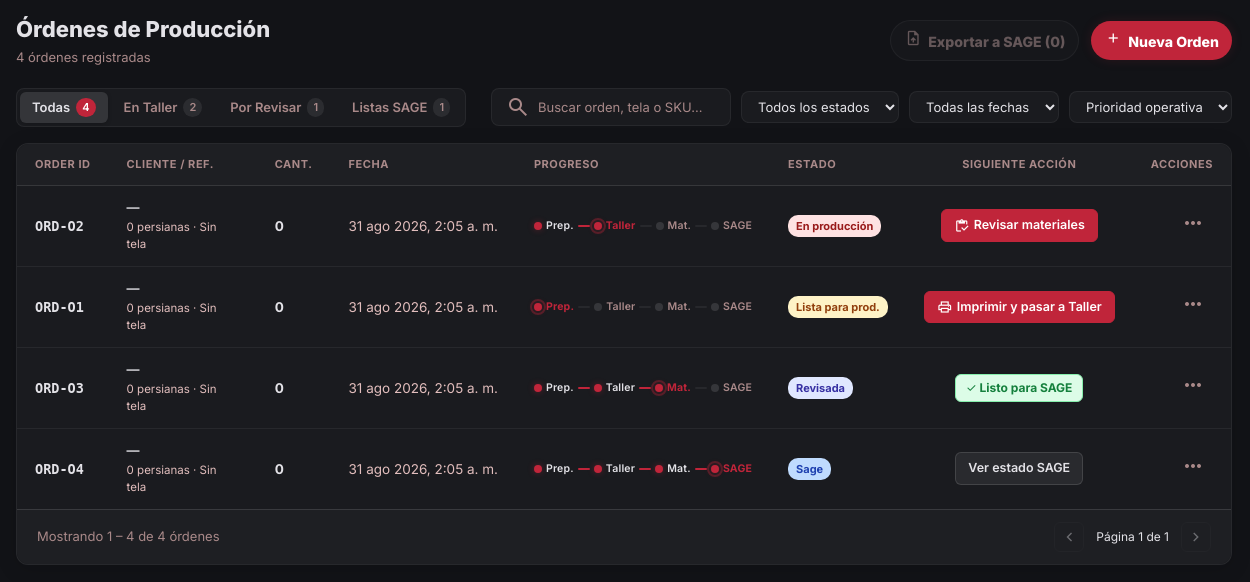
it: SavedOrdersPanel — Operational UX Overhaul › 3. Quick Filter Tabs & Counts › computes exact counts and filters by active stage
Expected: the tab "Todas 4" is shown, top-left (20, 92), bottom-right (108, 123)
# Click "En Taller"
Click the tab "En Taller 2".
click(163, 107)  # box top-left (112, 92), bottom-right (214, 123)
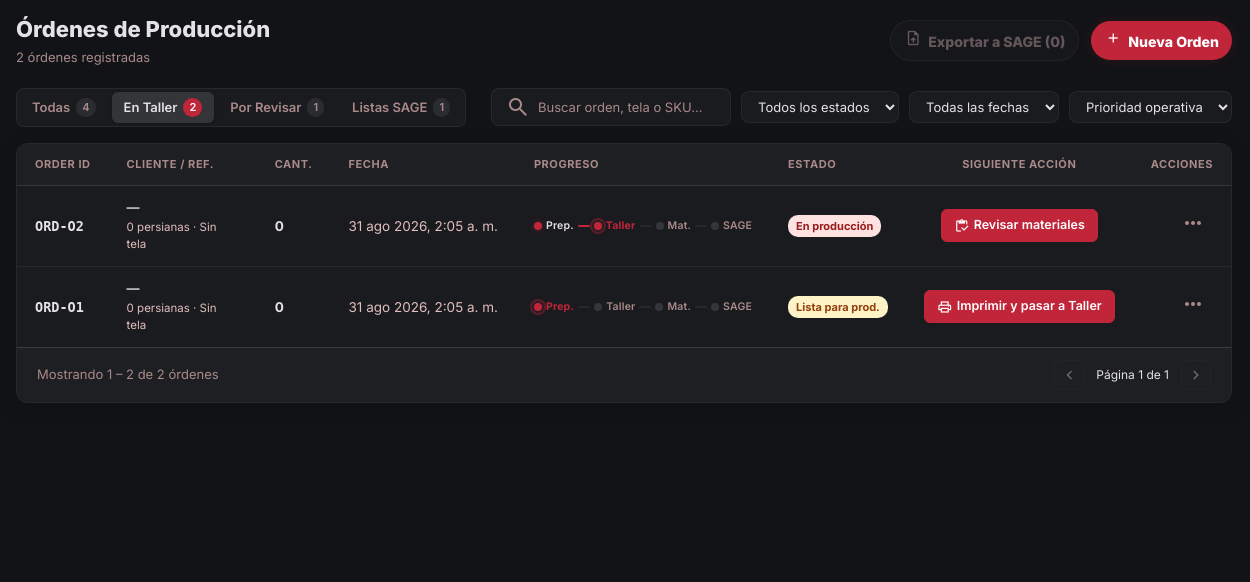
Expected: the text "ORD-O1" is shown, top-left (17, 266), bottom-right (109, 346)
Result: the text "ORD-O3" is gone
Result: the text "ORD-O4" is gone
